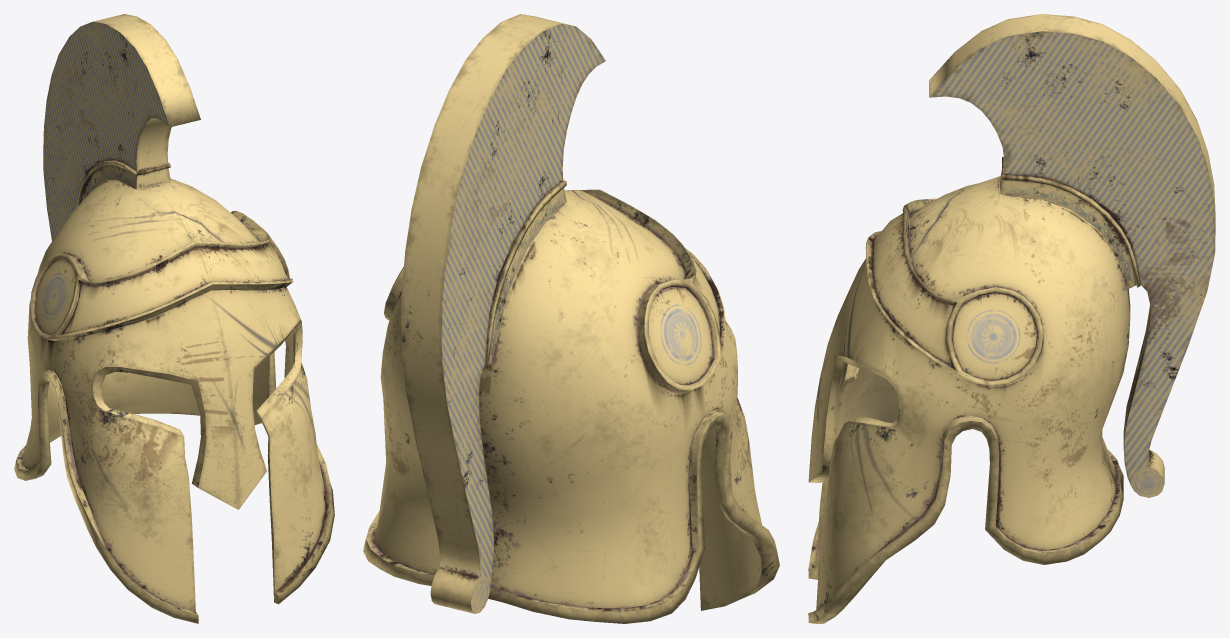
File: sparta_helmet.glb
3 views of the same model, side by side, from view 1: azimuth 30°, elevation 25°; view 2: azimuth 150°, elevation 25°; view 3: azimuth 270°, elevation 25° (orthographic). The views are drawn at different scales.
Visible parts, largest first — view 1: sparta_low; view 2: sparta_low; view 3: sparta_low.
Part boxes in pixels (bbox=[...]): sparta_low: bbox=[14, 14, 334, 623]; sparta_low: bbox=[363, 14, 779, 623]; sparta_low: bbox=[808, 14, 1215, 623].
Bounding box in the file's own units: 19.99 × 40.46 × 25.78.
1 material, 1 textured.
